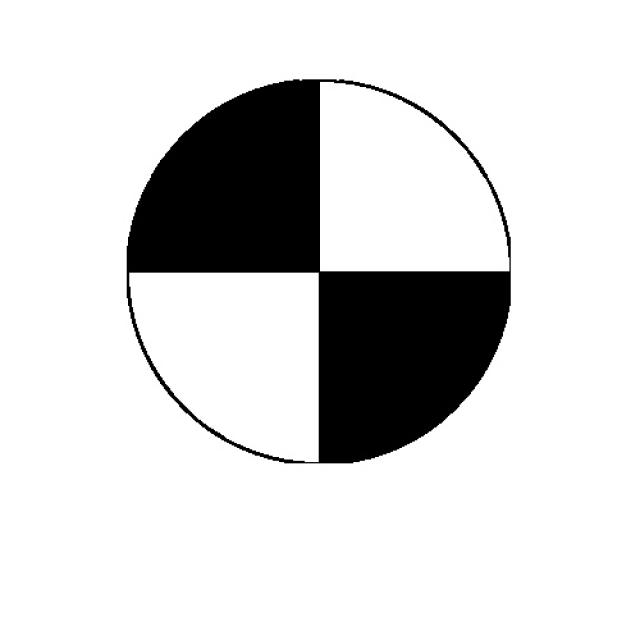Marcadores: (127, 80, 510, 464)
